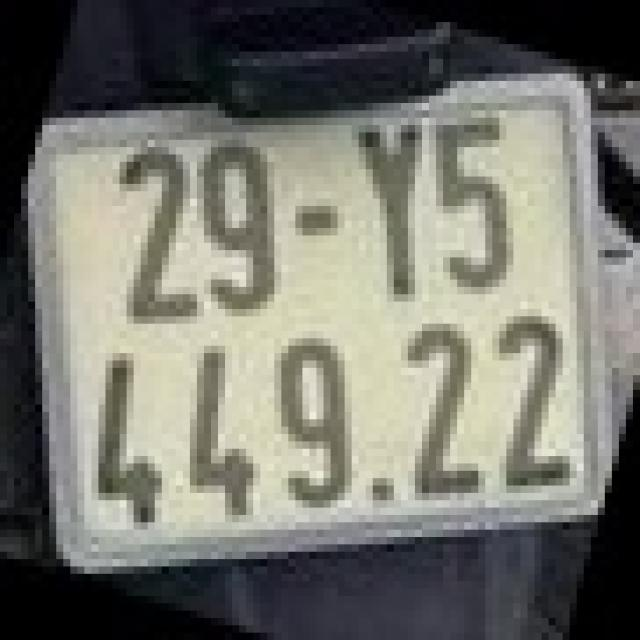2: (109, 140, 200, 323), (492, 313, 577, 489), (401, 320, 485, 497)
4: (183, 338, 260, 522), (88, 346, 165, 530)
5: (429, 110, 520, 287)
9: (197, 140, 281, 316), (271, 335, 355, 511)
Y: (355, 121, 426, 298)
